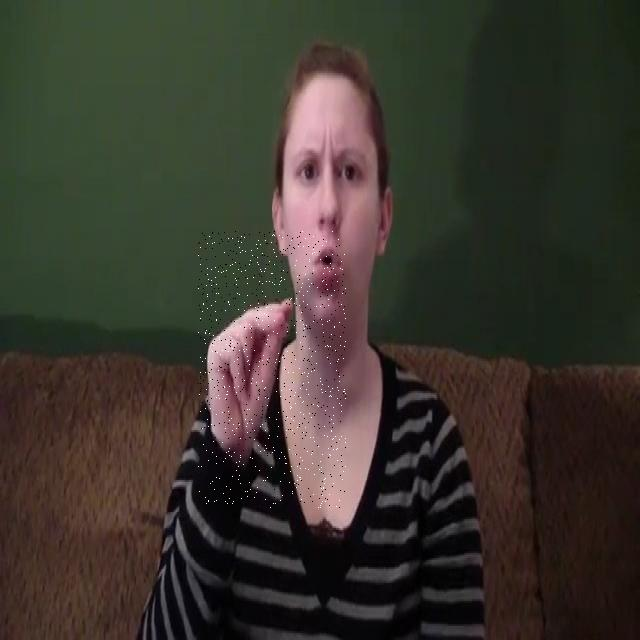no: (198, 231, 346, 508)
